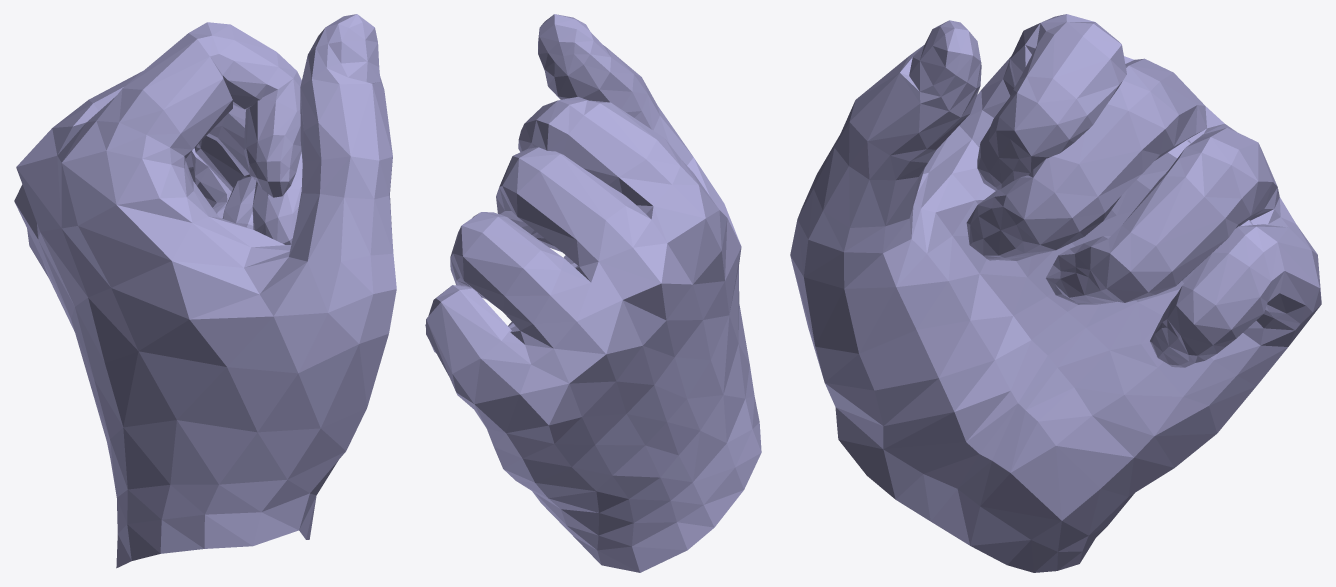
The model's file is frame_0047_source_000047_hand.glb.
3 views of the same model, side by side, from view 1: azimuth 30°, elevation 25°; view 2: azimuth 150°, elevation 25°; view 3: azimuth 270°, elevation 25° (orthographic). The views are drawn at different scales.
Parts seen in each view (by area): view 1: world; view 2: world; view 3: world.
Part boxes in pixels (left/top/right/bottom): world: left=14, top=14, right=396, bottom=568; world: left=425, top=14, right=761, bottom=572; world: left=790, top=14, right=1321, bottom=572.
Size of the model in its own units: 0.059 by 0.1231 by 0.0999.
